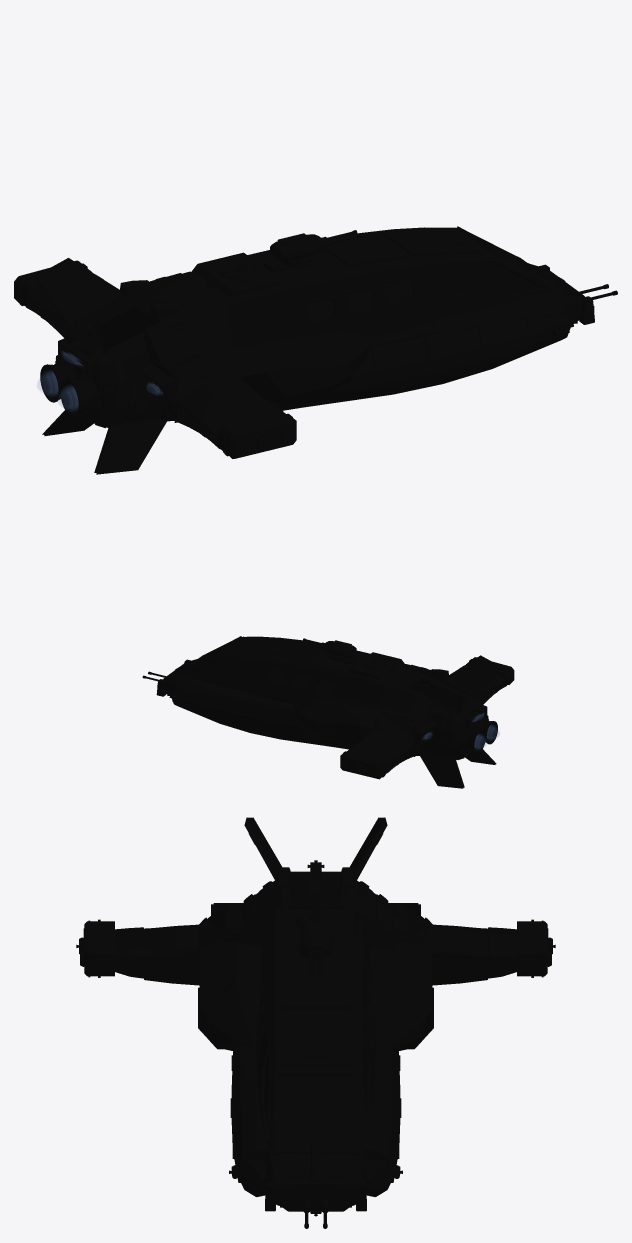
Rendered from plume_t025_occ.glb.
3 renders of one model, top to bottom at view 1: azimuth 30°, elevation 25°; view 2: azimuth 150°, elevation 25°; view 3: azimuth 270°, elevation 25°, orthographic. The views are drawn at different scales.
Parts seen in each view (by area): view 1: HullOccluder; view 2: HullOccluder; view 3: HullOccluder.
Part boxes in pixels (x1,y1,x2,y2): HullOccluder: (14, 226, 617, 474); HullOccluder: (142, 636, 514, 788); HullOccluder: (76, 817, 555, 1228).
Size of the model in its own units: 18.25 by 5.33 by 12.99.
Materials: 3 (2 with a texture image).
